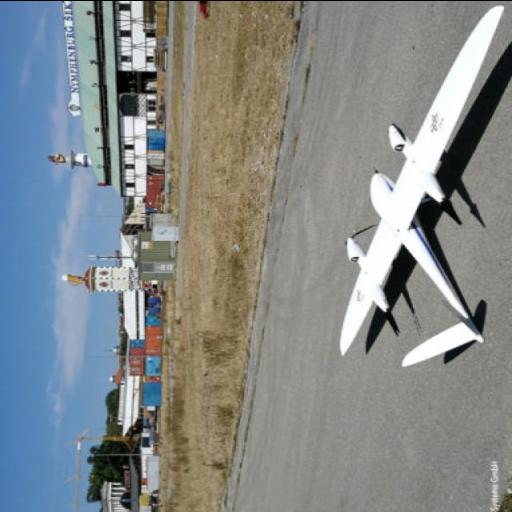uav: (331, 2, 512, 372)
